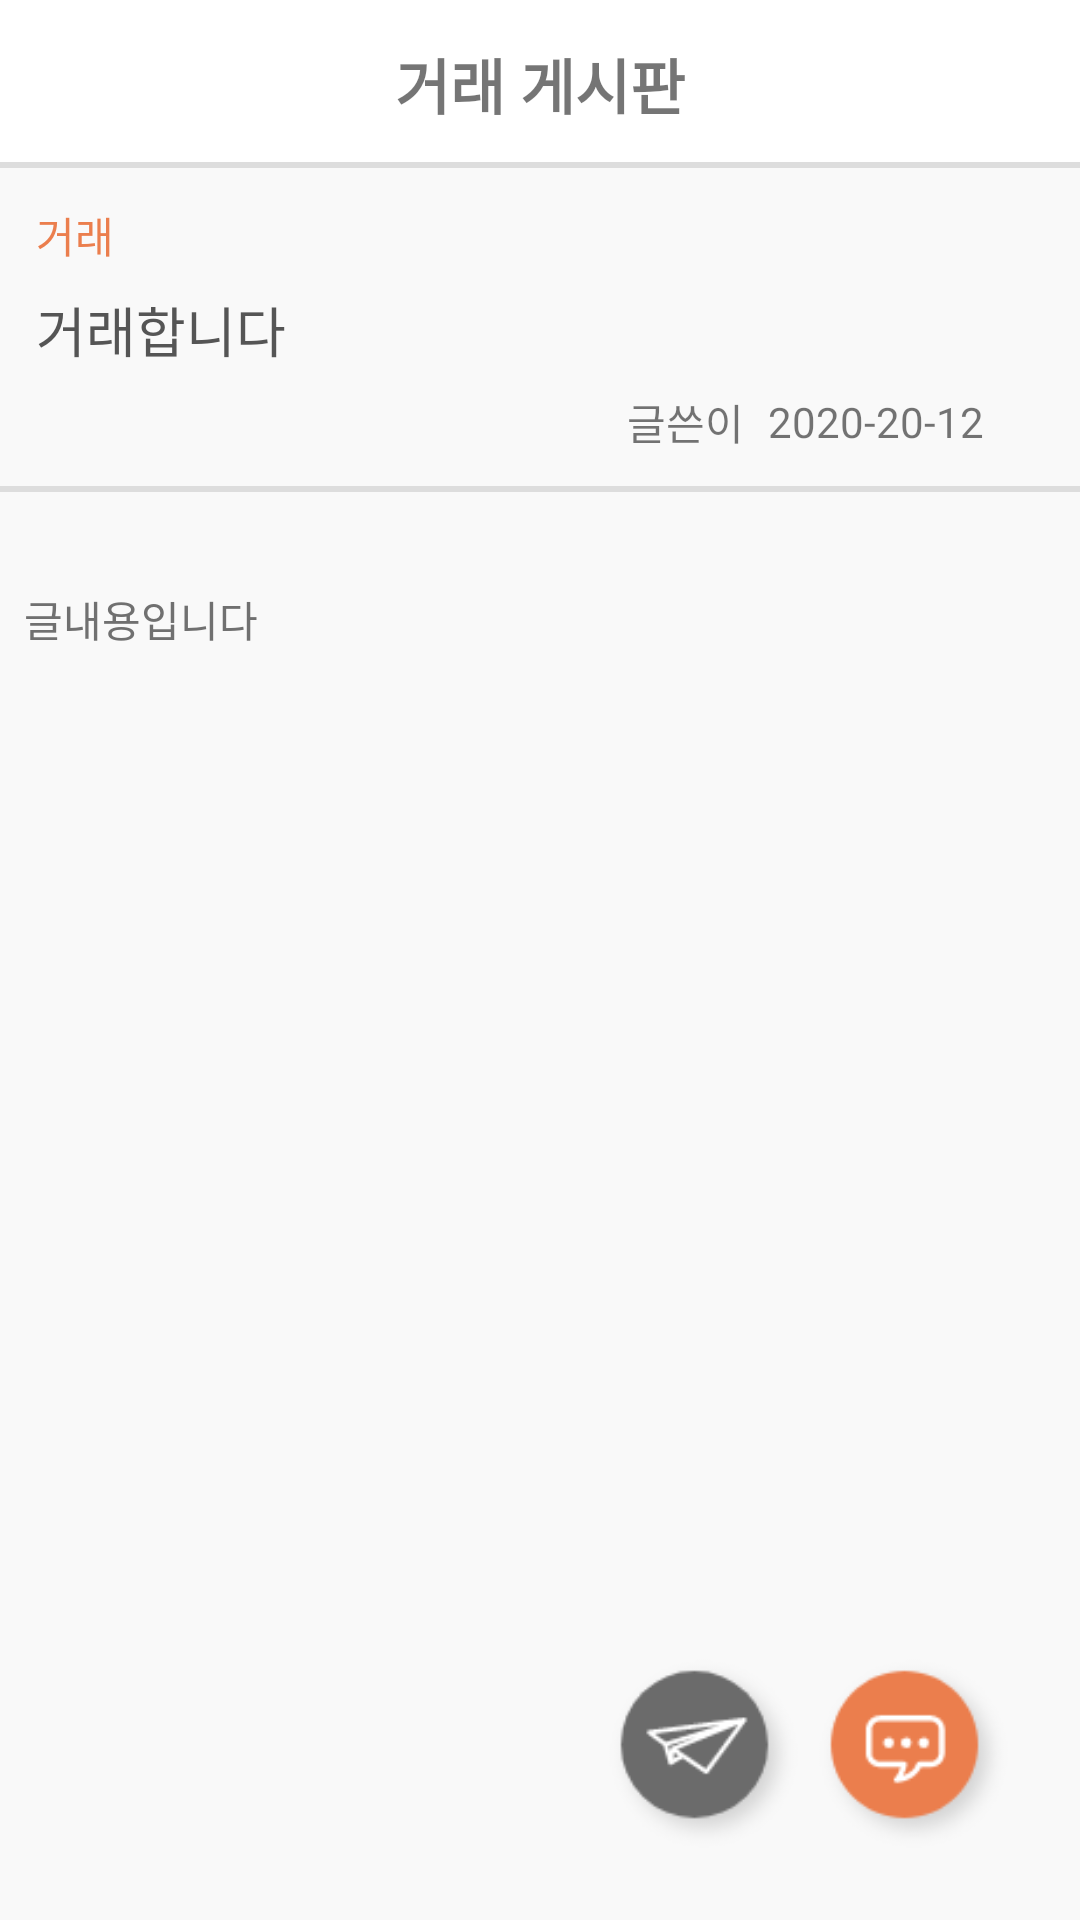

Where to tap for icons on this 1080px×1920px app screen, as [x,y]:
comment: [907,1747]
message: [697,1746]
